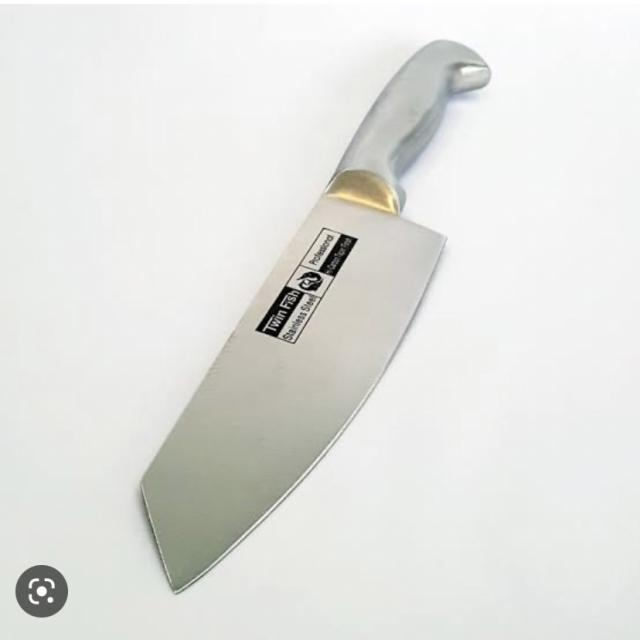Knife: (74, 6, 567, 631)
